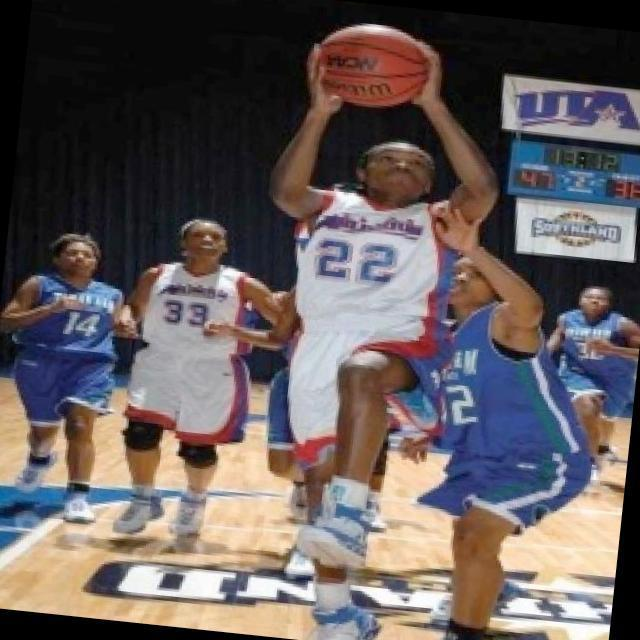ball: (305, 5, 437, 120)
